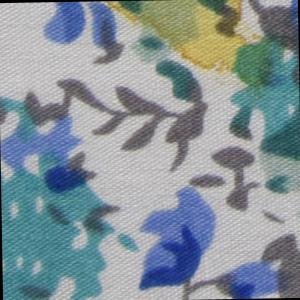Oil Stain: (102, 1, 277, 101)
